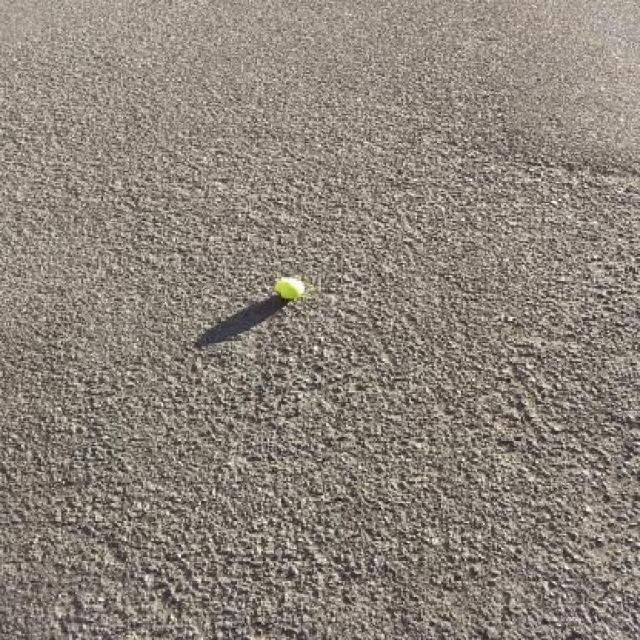Tennis_Ball: (278, 274, 305, 300)
